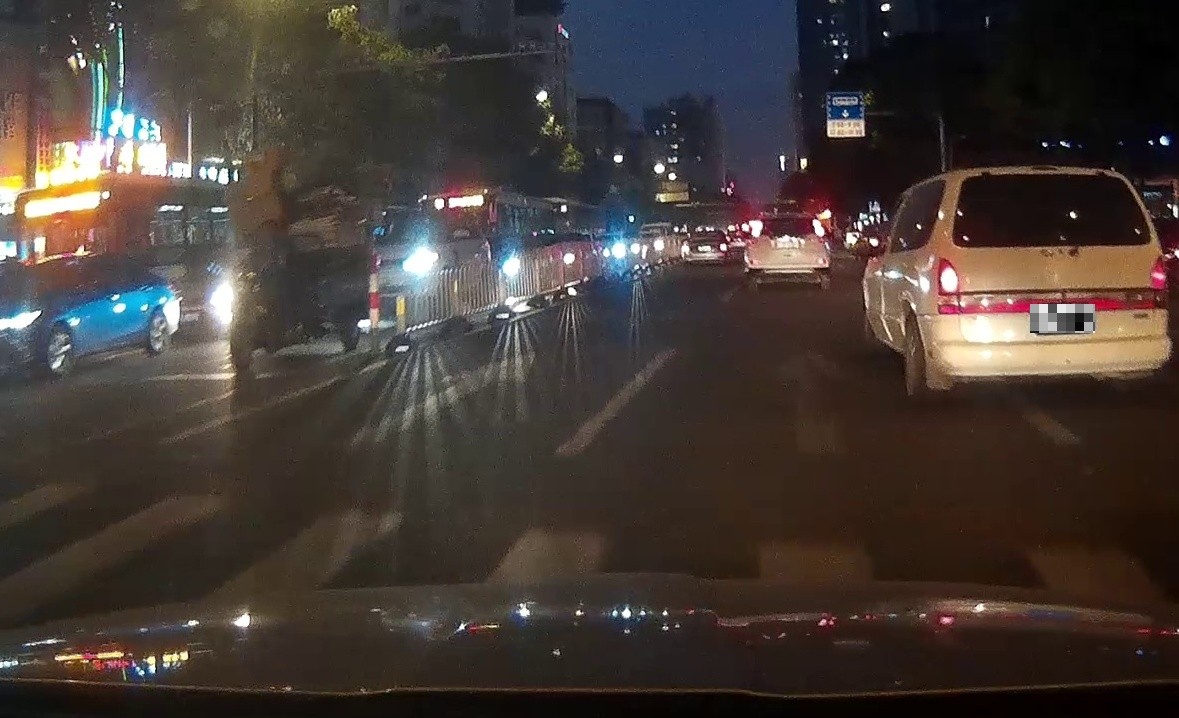L_light: (936, 257, 961, 315), (751, 220, 762, 237)
R_light: (1149, 253, 1169, 308), (812, 219, 825, 237)
T_light: (1035, 174, 1064, 185), (782, 218, 794, 222)
night-left: (927, 164, 1172, 404)
night-no: (746, 213, 831, 292)
plate_1: (1030, 304, 1095, 333)
